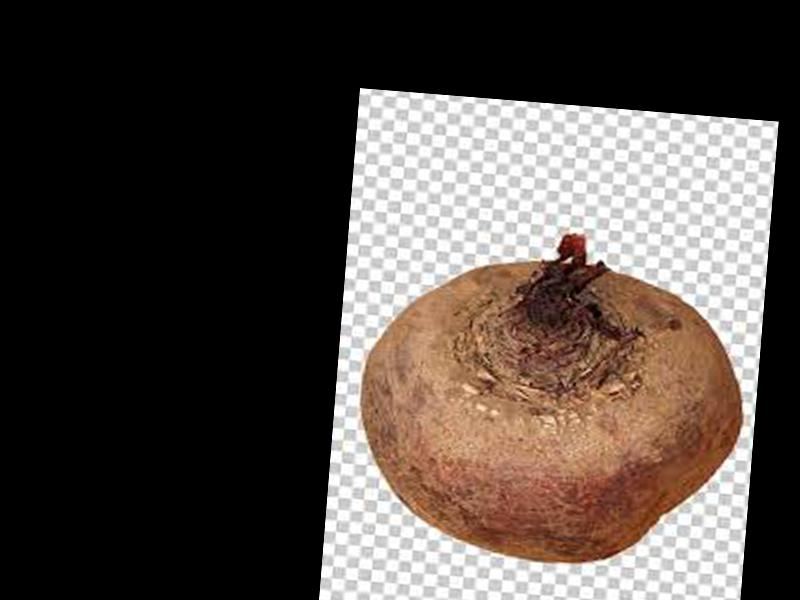Beet: (351, 217, 752, 575)
